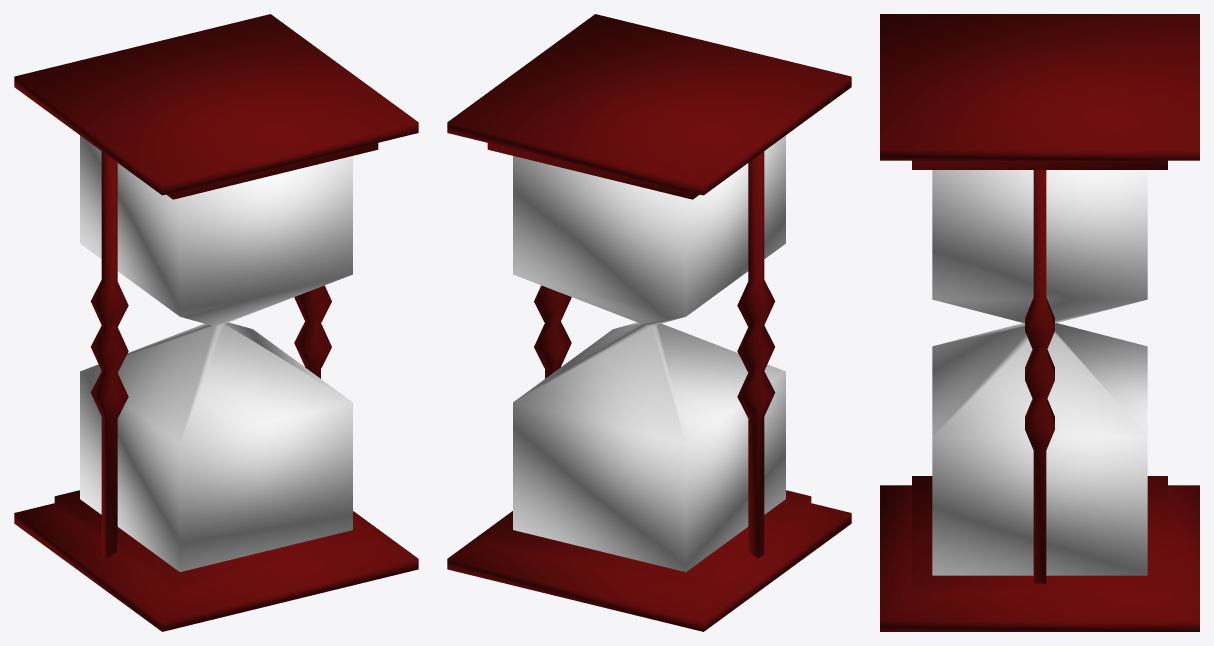
The model's file is hourglass.glb.
The picture shows the model from 3 angles, left to right: view 1: azimuth 30°, elevation 25°; view 2: azimuth 150°, elevation 25°; view 3: azimuth 270°, elevation 25°; orthographic projection. The views are drawn at different scales.
Parts seen in each view (by area): view 1: Cube.001, Cube.003, Cube, Cube.002, Cube.004; view 2: Cube.001, Cube.003, Cube, Cube.002, Cube.004; view 3: Cube.001, Cube.003, Cube, Cube.004.
Part boxes in pixels (box(x1,y1,x2,y2)): Cube.001: box(80, 135, 352, 571); Cube.003: box(14, 14, 418, 199); Cube: box(14, 490, 418, 631); Cube.002: box(90, 151, 128, 558); Cube.004: box(294, 285, 331, 378); Cube.001: box(513, 135, 785, 571); Cube.003: box(447, 14, 851, 199); Cube: box(447, 490, 851, 631); Cube.002: box(737, 151, 775, 558); Cube.004: box(534, 285, 571, 378); Cube.001: box(932, 170, 1147, 575); Cube.003: box(880, 14, 1199, 169); Cube: box(880, 476, 1199, 631); Cube.004: box(1025, 170, 1054, 583).
Bounding box in the file's own units: 0.252 × 0.42 × 0.252.
